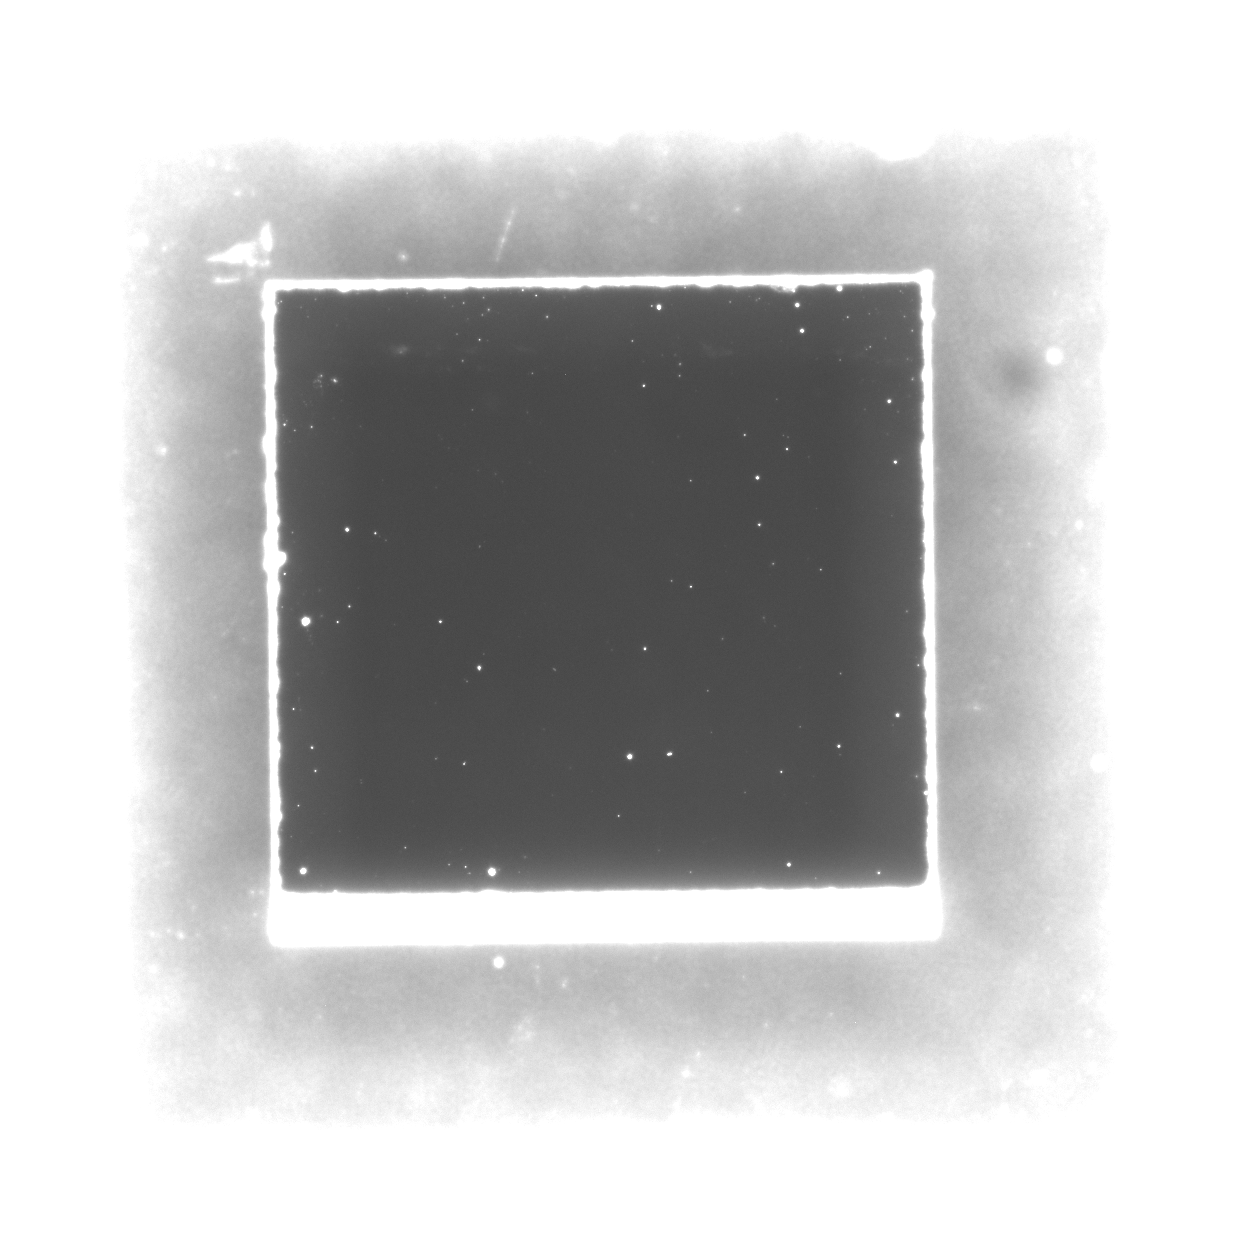dot: (295, 609, 319, 630), (621, 743, 640, 768), (793, 319, 815, 340), (483, 860, 504, 879), (470, 656, 489, 674), (295, 860, 313, 879)
edge_bottom: (257, 877, 946, 960)
